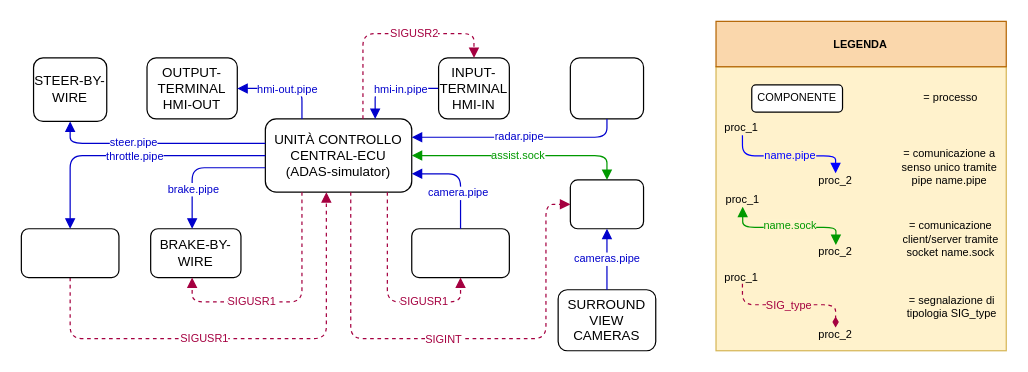
Image size: 1028x372. Some labels were removed from this diagram. The centre of each missing label's shape, as x and y in pixels:
"FORWARD FACING RADAR" goes at pixel 606 88.
"FRONT WINDSHIELD CAMERA" goes at pixel 460 253.
"PARK ASSIST" goes at pixel 606 204.
"THROTTLE-BY-WIRE" goes at pixel 69 253.
